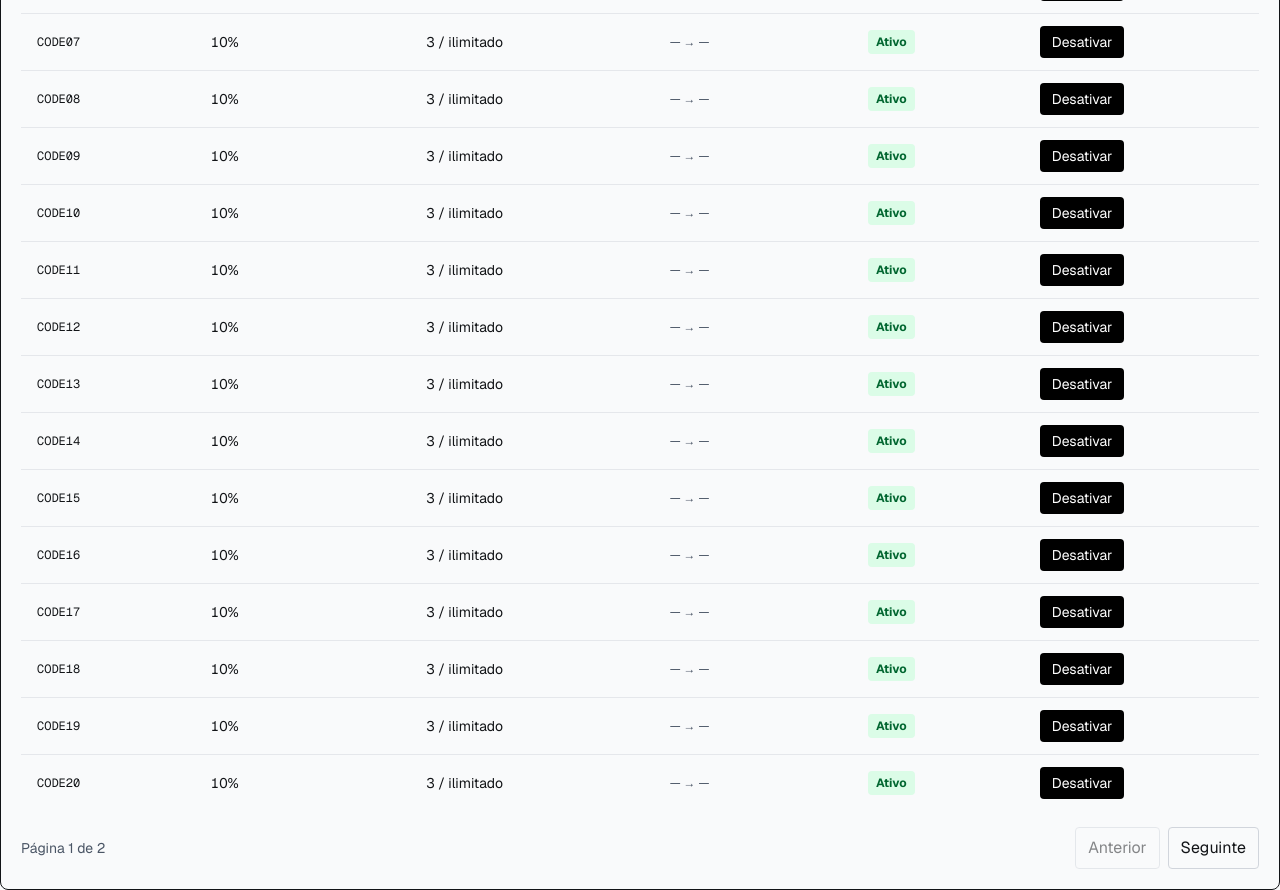
it: Admin Coupons Client › pagina a lista com mais de 20 cupões
(page scrolled)
Expected: the text "CODE21" is not shown
Expected: the text "Página 1 de 2" is shown, [21, 838, 105, 858]
Click the button named "Página seguinte" at (1213, 848), box [1168, 827, 1259, 869]
(page scrolled)
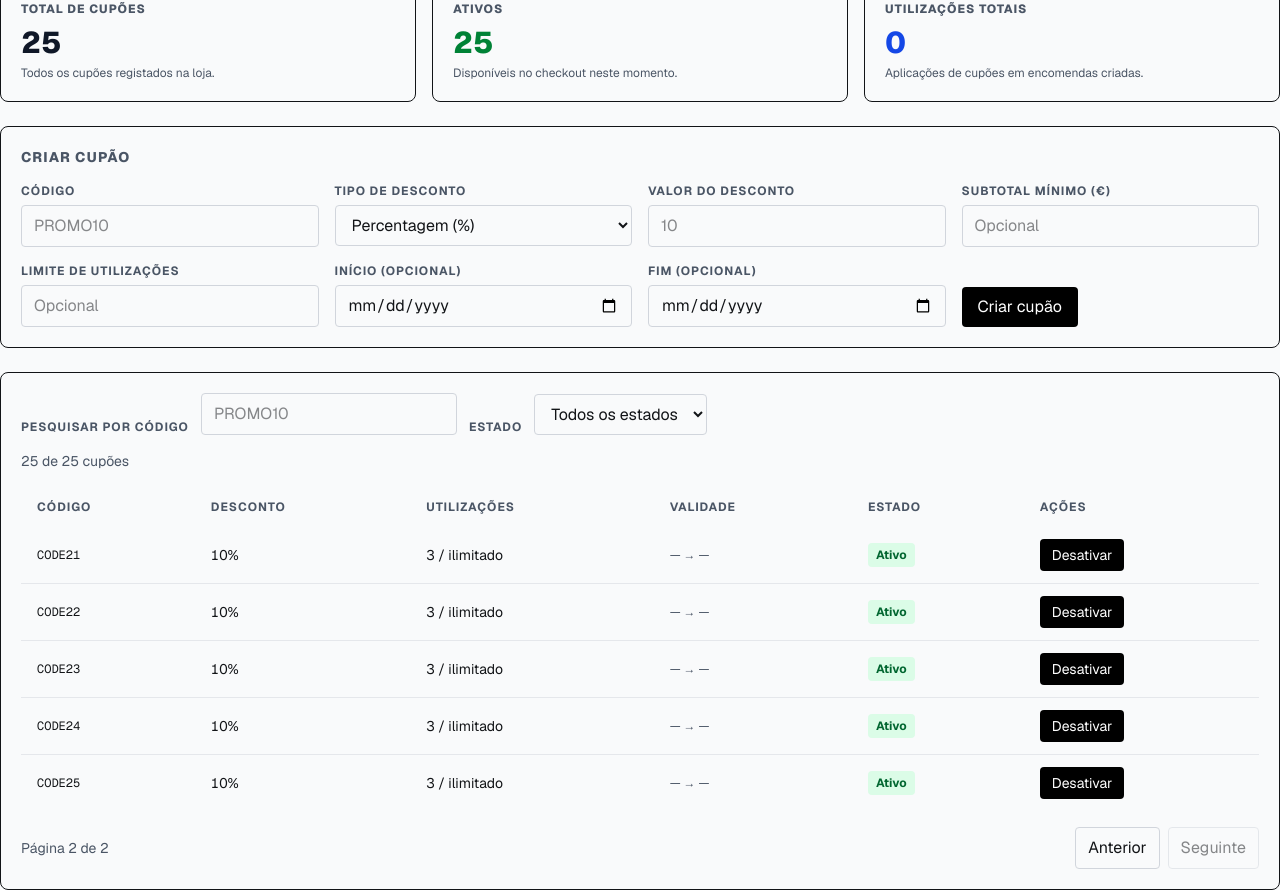
Result: the text "CODE21" is shown at [21, 527, 195, 584]
